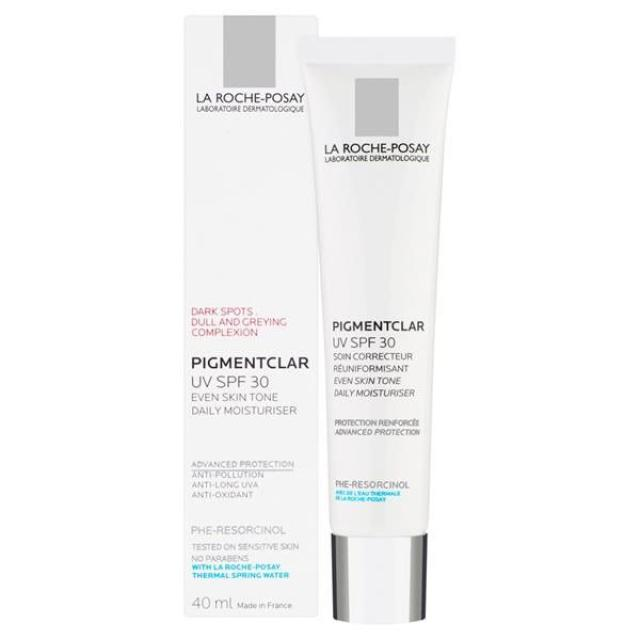cosmotic: (180, 71, 320, 621), (327, 137, 437, 619)
